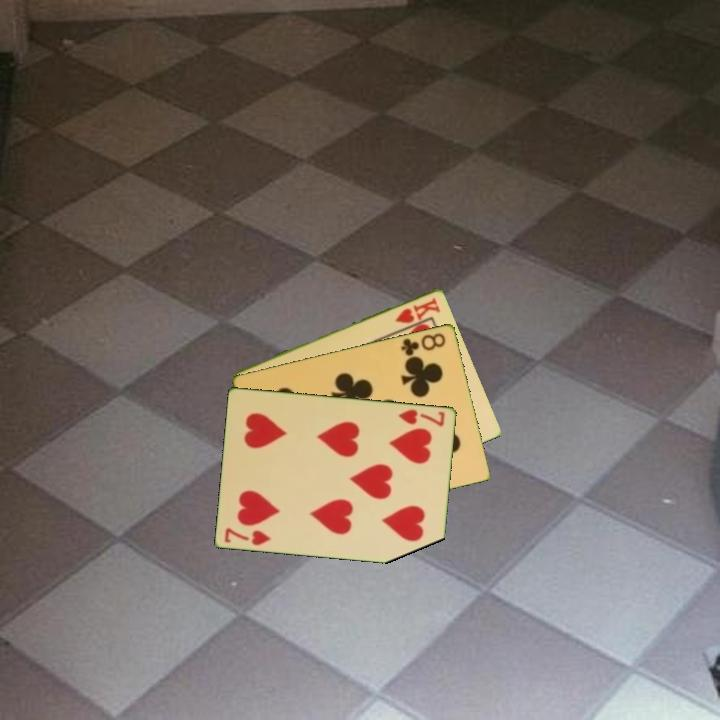7h: (395, 405, 448, 429), (221, 524, 274, 548)
8c: (397, 329, 449, 359)
Kh: (392, 293, 443, 326)
